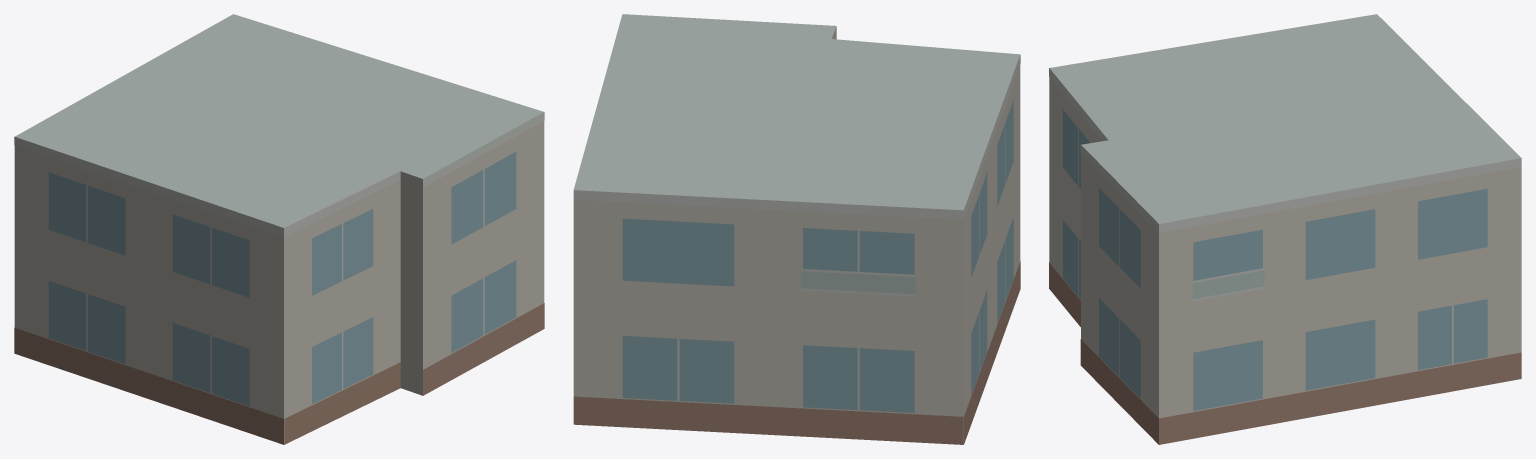
Rendered from survey-upis-32834983.glb.
3 views of the same model, side by side, from view 1: azimuth 30°, elevation 25°; view 2: azimuth 150°, elevation 25°; view 3: azimuth 270°, elevation 25° (orthographic). The views are drawn at different scales.
Parts seen in each view (by area): view 1: survey-upis-32834983.tmp; view 2: survey-upis-32834983.tmp; view 3: survey-upis-32834983.tmp.
Part boxes in pixels (x1=…): survey-upis-32834983.tmp: x1=14, y1=14, x2=544, y2=444; survey-upis-32834983.tmp: x1=573, y1=14, x2=1020, y2=444; survey-upis-32834983.tmp: x1=1049, y1=14, x2=1521, y2=444.
Bounding box in the file's own units: 12.45 × 6.1 × 11.84.
